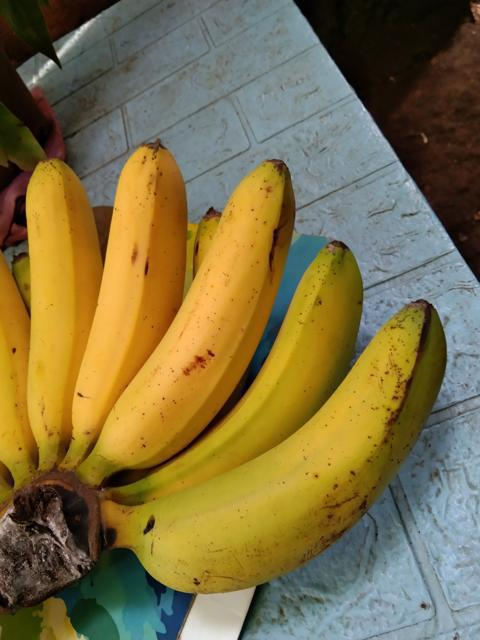freshripe: (68, 128, 186, 464), (15, 147, 100, 465)
ripe: (141, 293, 454, 602), (105, 148, 295, 468)
